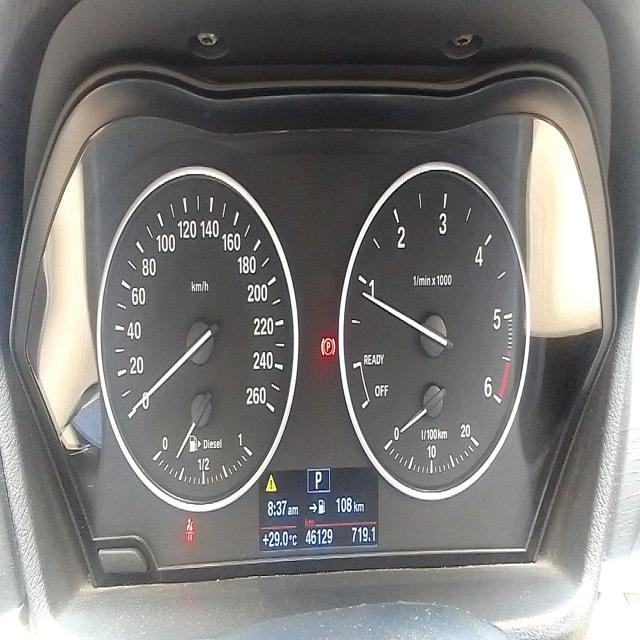odometer: (304, 527, 335, 547)
